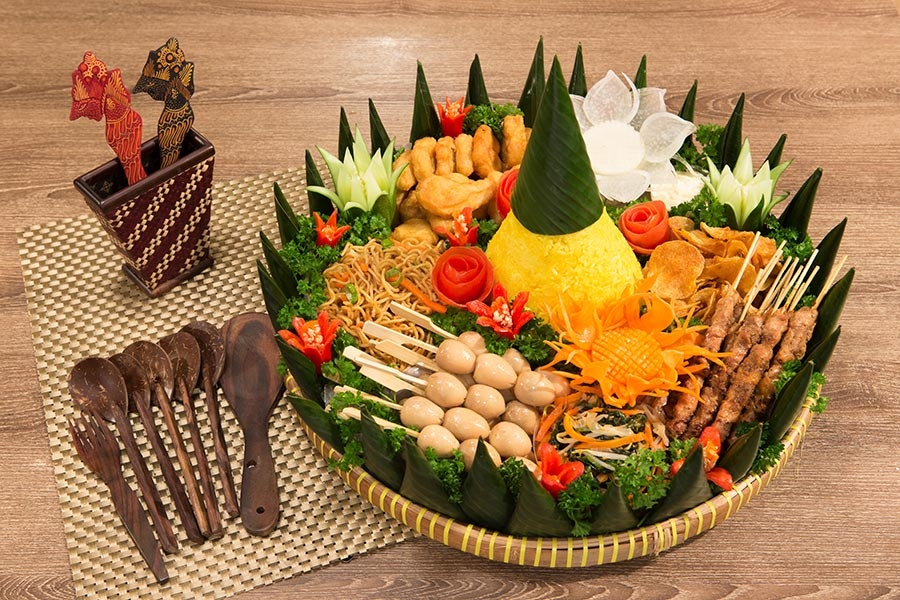tumpeng: (450, 52, 642, 322)
